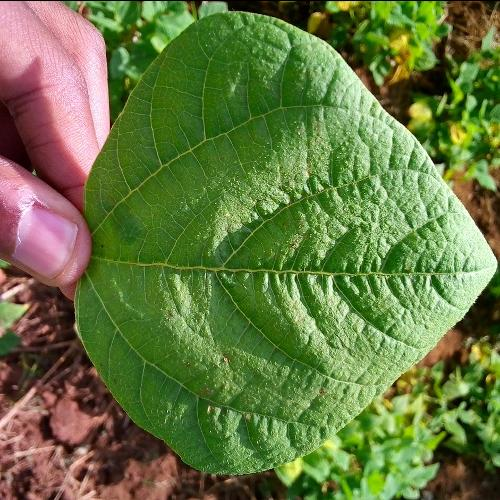hawar: (162, 347, 339, 424)
sehat: (165, 60, 262, 136)
